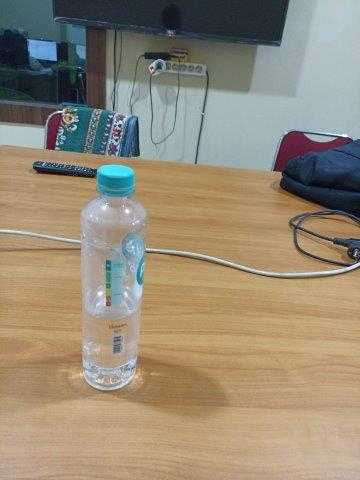botolplastik: (81, 164, 148, 391)
